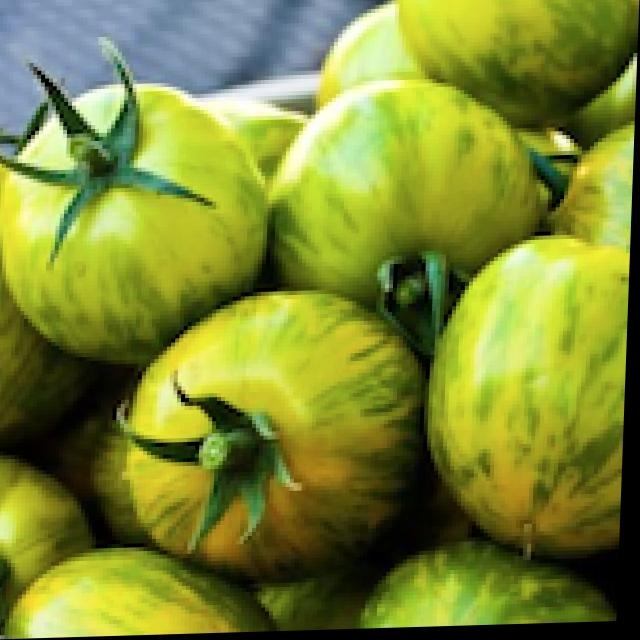yesil: (0, 29, 620, 629)
